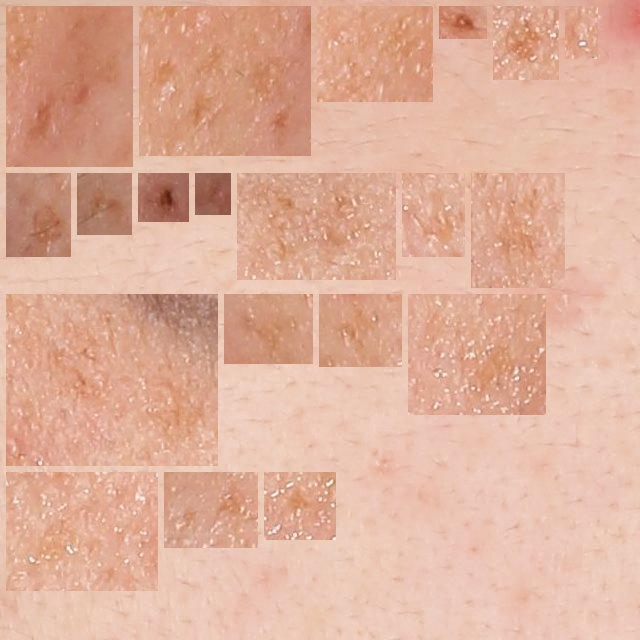melasma: (14, 302, 210, 458), (147, 14, 303, 148), (14, 14, 125, 159), (14, 480, 150, 583), (245, 181, 388, 272), (416, 302, 538, 407), (325, 14, 425, 94), (479, 181, 557, 280), (172, 480, 250, 540), (232, 302, 305, 356), (327, 302, 394, 359), (14, 181, 63, 249), (410, 181, 457, 249), (272, 480, 328, 532), (501, 14, 551, 72), (85, 181, 124, 227)
nevus: (146, 181, 181, 214), (447, 14, 479, 31)
pustule: (573, 14, 590, 51)
